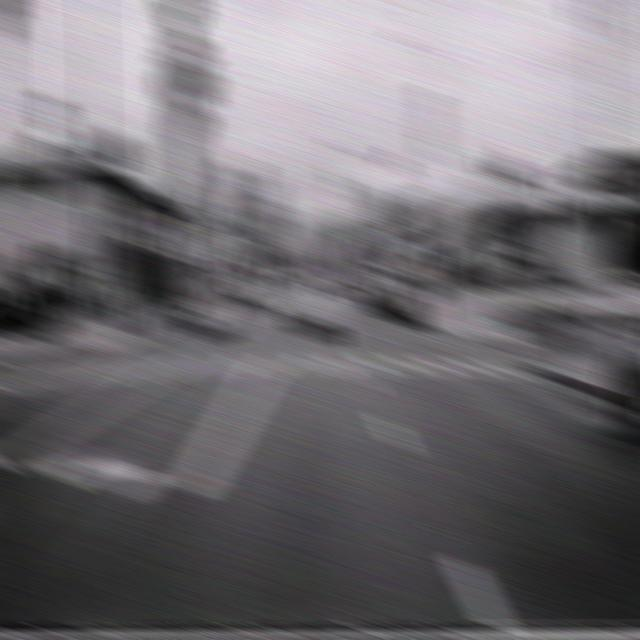pedestrianCrossing: (536, 171, 577, 230)
